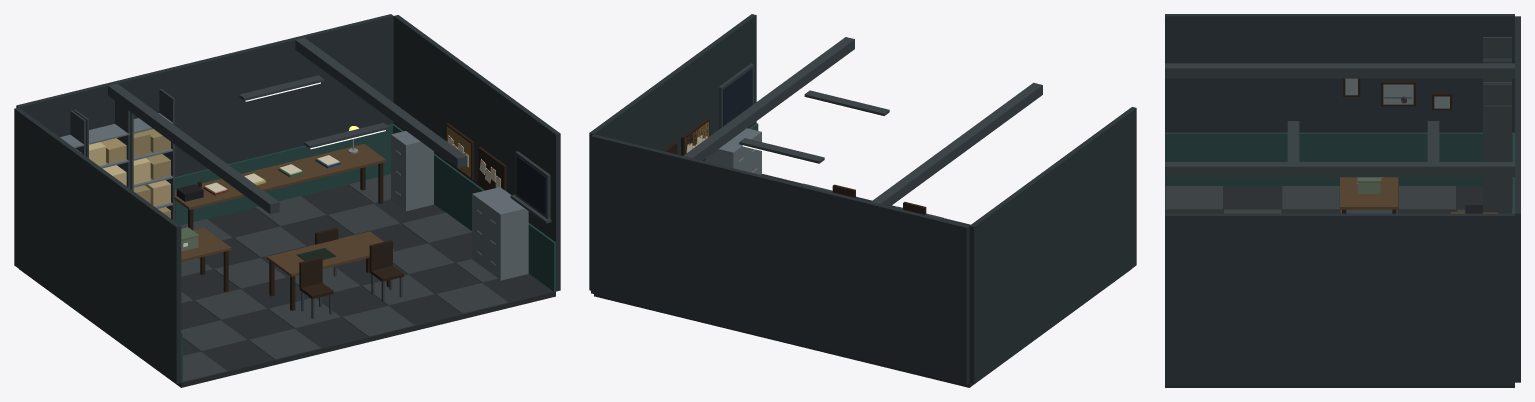
The model's file is archive.glb.
3 views of the same model, side by side, from view 1: azimuth 30°, elevation 25°; view 2: azimuth 150°, elevation 25°; view 3: azimuth 270°, elevation 25° (orthographic). The views are drawn at different scales.
Parts seen in each view (by area): view 1: WallLeft, WallBack, Floor, WallRight, BandBack, BandRight, ArchiveTableTop, CeilingBeam0, CeilingBeam1, Cabinet0, Cabinet2, CenterTableTop (+33 smaller); view 2: WallBack, WallLeft, WallRight, CeilingBeam0, CeilingBeam1, Floor, MirrorGlass, Cabinet1, FluoroHousing0, FluoroHousing1, Cabinet0, MirrorFrame; view 3: WallRight, WallLeft, BandLeft, CeilingBeam0, CeilingBeam1, Floor, Rack2Post0.44, WallBack, TrestleTop, Tile0_0, Tile0_2, Tile0_4 (+6 smaller).
Part boxes in pixels (x1,y1,x2,y2): WallLeft: (14, 107, 181, 384); WallBack: (16, 14, 393, 176); Floor: (19, 185, 555, 387); WallRight: (393, 15, 560, 291); BandBack: (175, 124, 394, 225); BandRight: (393, 124, 555, 291); ArchiveTableTop: (174, 144, 385, 209); CeilingBeam0: (108, 83, 279, 214); CeilingBeam1: (295, 37, 466, 168); Cabinet0: (485, 197, 528, 280); Cabinet2: (391, 131, 433, 211); CenterTableTop: (267, 231, 394, 276); WallBack: (591, 134, 969, 384); WallLeft: (969, 107, 1136, 383); WallRight: (589, 14, 756, 290); CeilingBeam0: (871, 82, 1042, 206); CeilingBeam1: (683, 37, 854, 160); Floor: (594, 174, 1131, 387); MirrorGlass: (723, 68, 752, 126); Cabinet1: (705, 139, 746, 171); FluoroHousing0: (804, 90, 889, 115); FluoroHousing1: (739, 138, 824, 163); Cabinet0: (732, 128, 761, 174); MirrorFrame: (718, 63, 753, 129); WallRight: (1165, 213, 1514, 385); WallLeft: (1165, 14, 1514, 132); BandLeft: (1165, 132, 1513, 186); CeilingBeam0: (1165, 63, 1514, 78); CeilingBeam1: (1165, 162, 1514, 177); Floor: (1165, 186, 1514, 387); Rack2Post0.44: (1483, 105, 1511, 213); WallBack: (1515, 16, 1520, 382); TrestleTop: (1340, 177, 1398, 209); Tile0_0: (1165, 186, 1222, 209); Tile0_2: (1282, 186, 1339, 209); Tile0_4: (1399, 186, 1455, 209).
Size of the model in its own units: 8.2 by 3.3 by 6.1.
